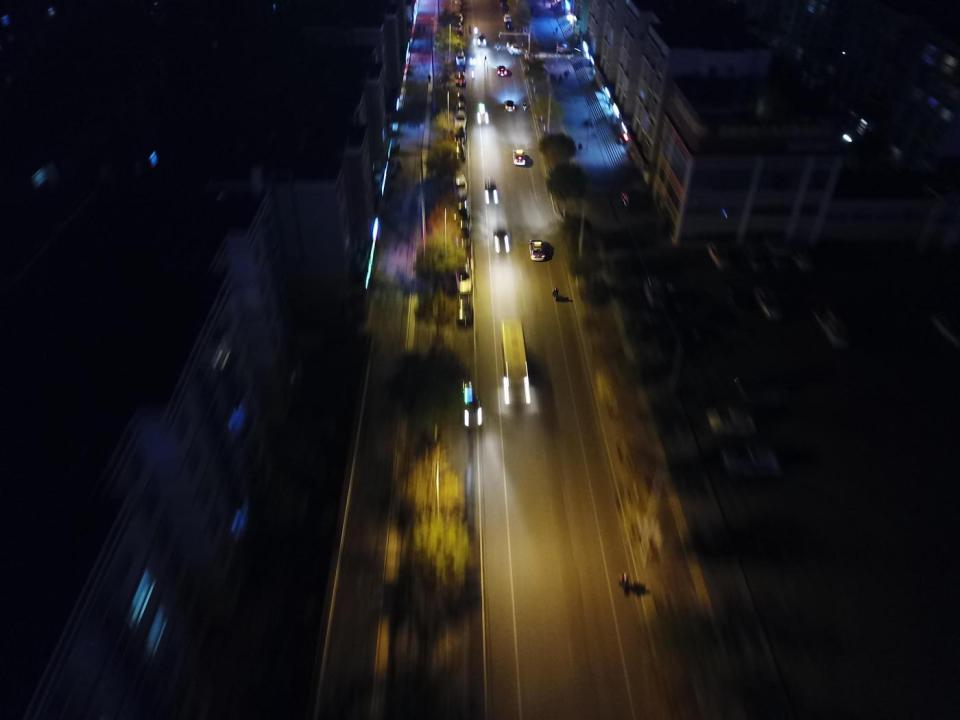bus: (500, 318, 531, 405)
car: (720, 444, 784, 481), (813, 296, 851, 352), (734, 375, 790, 405), (706, 405, 758, 436), (929, 308, 959, 346), (754, 285, 784, 320), (763, 232, 790, 270), (461, 380, 483, 426), (708, 239, 732, 272), (790, 243, 815, 273), (454, 256, 472, 292), (456, 294, 472, 326), (453, 220, 471, 248), (493, 226, 508, 254), (452, 199, 469, 221), (484, 178, 498, 204), (622, 190, 638, 212), (454, 174, 467, 200), (530, 240, 544, 262), (557, 41, 575, 55), (508, 43, 528, 55), (452, 142, 465, 160), (477, 103, 488, 124), (454, 109, 466, 128), (455, 90, 466, 110), (454, 71, 466, 87), (454, 127, 466, 142), (513, 148, 524, 164), (454, 48, 465, 64), (504, 100, 516, 112), (450, 24, 461, 34), (497, 65, 507, 76), (453, 12, 462, 24), (478, 34, 485, 46), (504, 13, 512, 22), (500, 1, 508, 10), (470, 54, 476, 65), (506, 22, 513, 29), (578, 141, 582, 152), (455, 0, 462, 5)
van: (743, 239, 768, 273), (645, 275, 666, 309)
